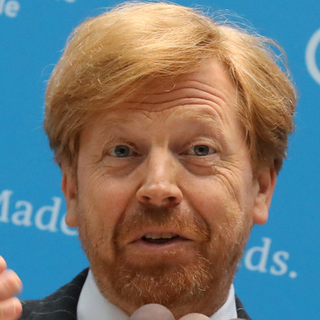eye: (180, 139, 223, 165), (101, 139, 144, 165)
